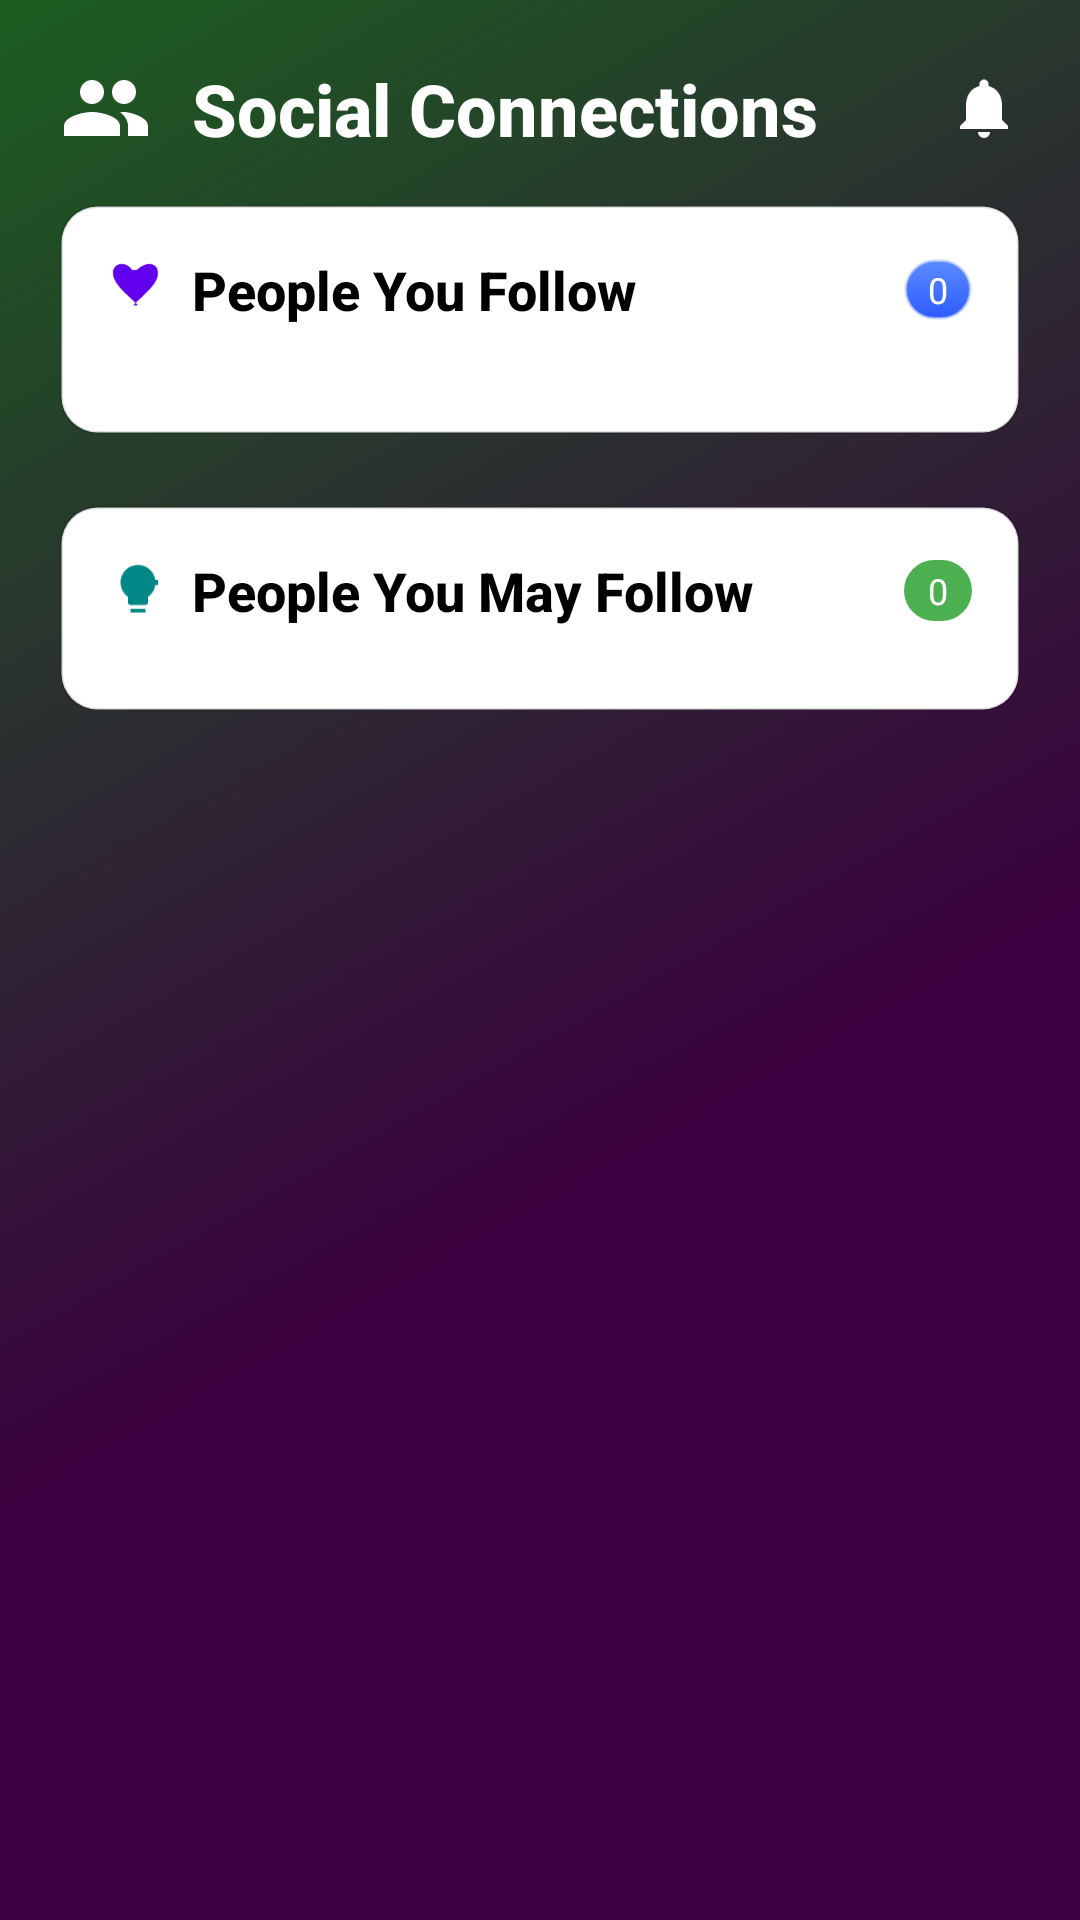

Screen size 1080 × 1920. Icon name, then its box in pixels as BBox(x1, y1, x2, y2):
heart: BBox(112, 263, 159, 306)
notifications: BBox(960, 79, 1008, 138)
people group: BBox(64, 80, 148, 136)
suggestions: BBox(120, 564, 158, 613)
